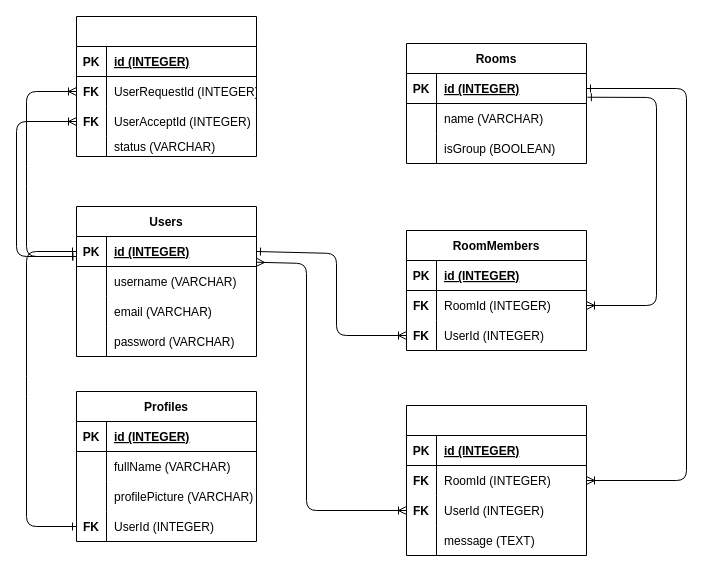
Some shapes in this 703 by 572 pixel diagram are drawn without their labels. The shapes that lost their labels are listed below. From the top down, each one's box as (x1, y1, x2, y2) in pixels, then its label:
(76, 16, 256, 156): Friendships
(406, 404, 586, 556): Messages
